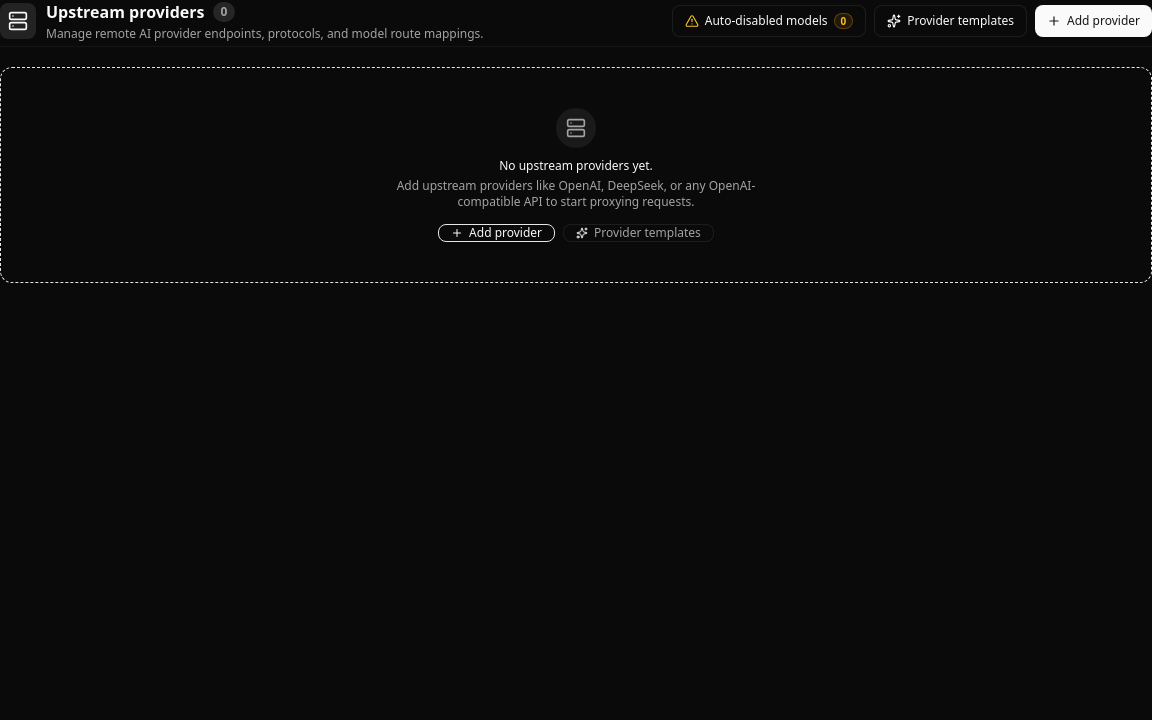
Scenario: Auto-disabled models dialog entry › shows zero count and opens the empty state without providers
Click the button with test id "ai-gateway-auto-disabled-models": (769, 21) [672,5,866,37]
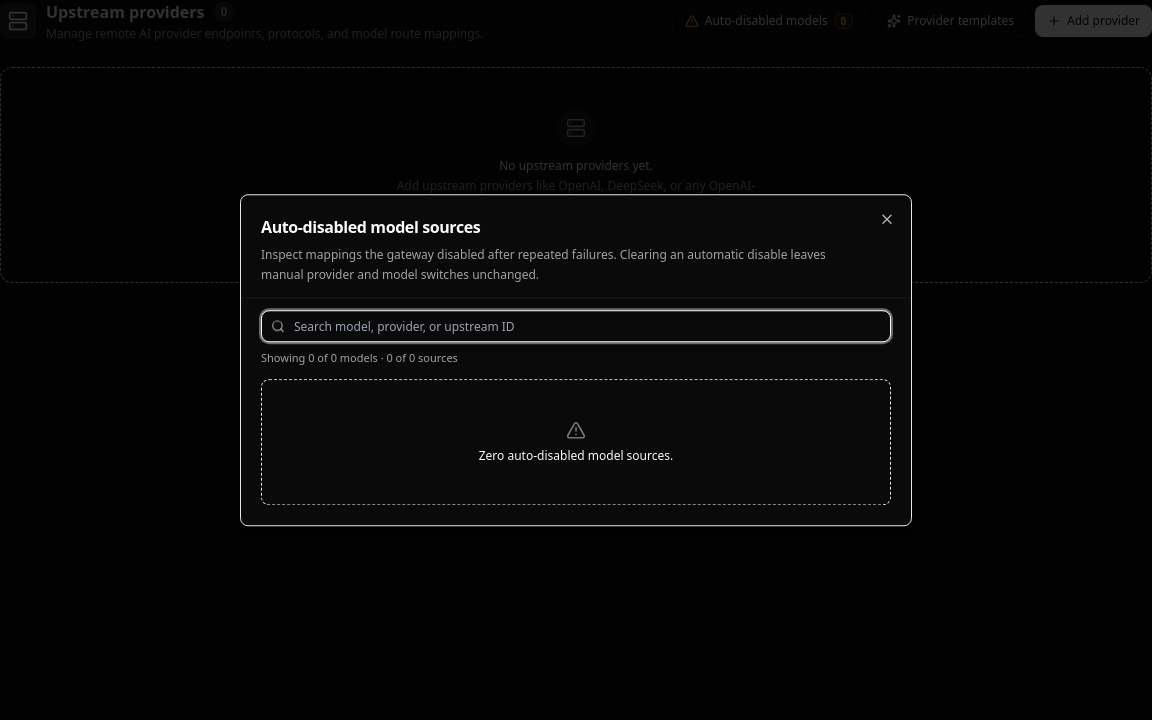
Check: the heading "No upstream providers yet." is shown, box [499,158,653,174]
Check: the dialog with test id "ai-gateway-auto-disabled-models-dialog" is shown, box [240,194,912,526]
